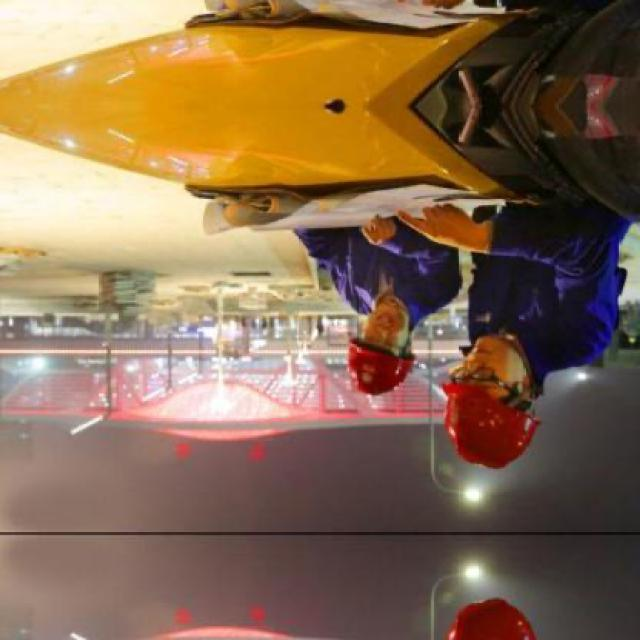con casco: (427, 331, 585, 464), (336, 294, 470, 410)
